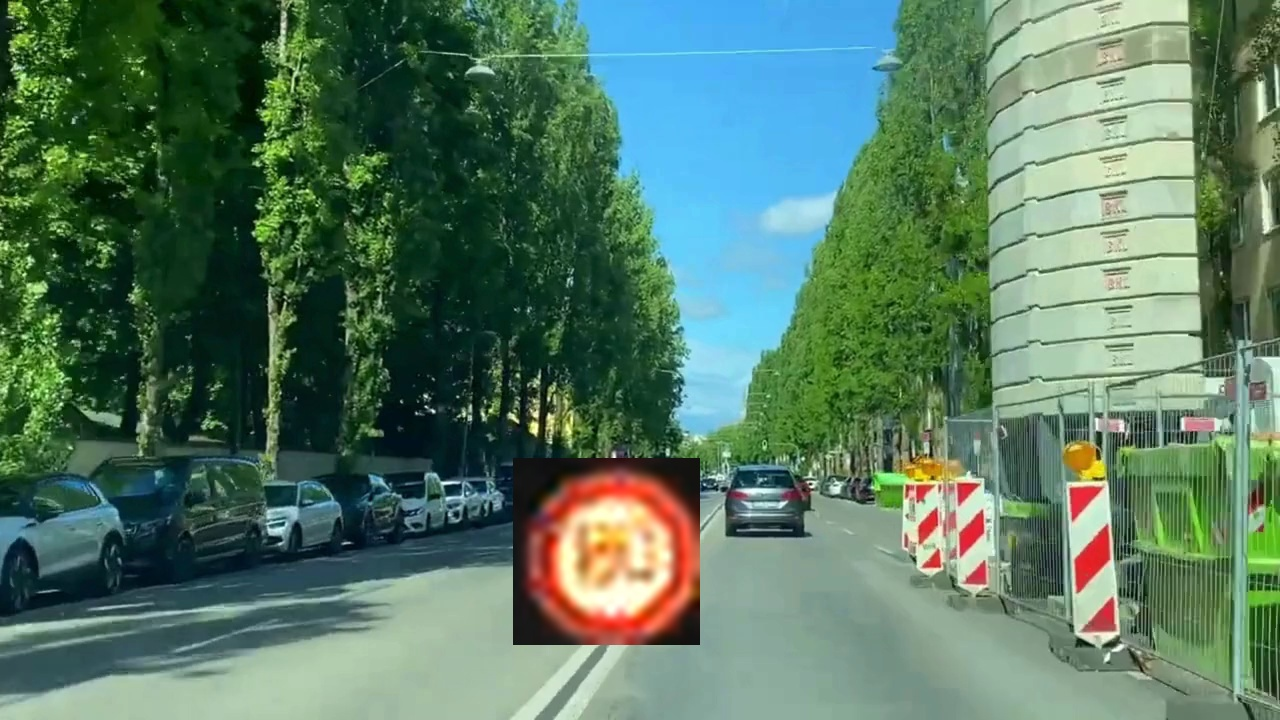Speed 80: (513, 458, 700, 645)
